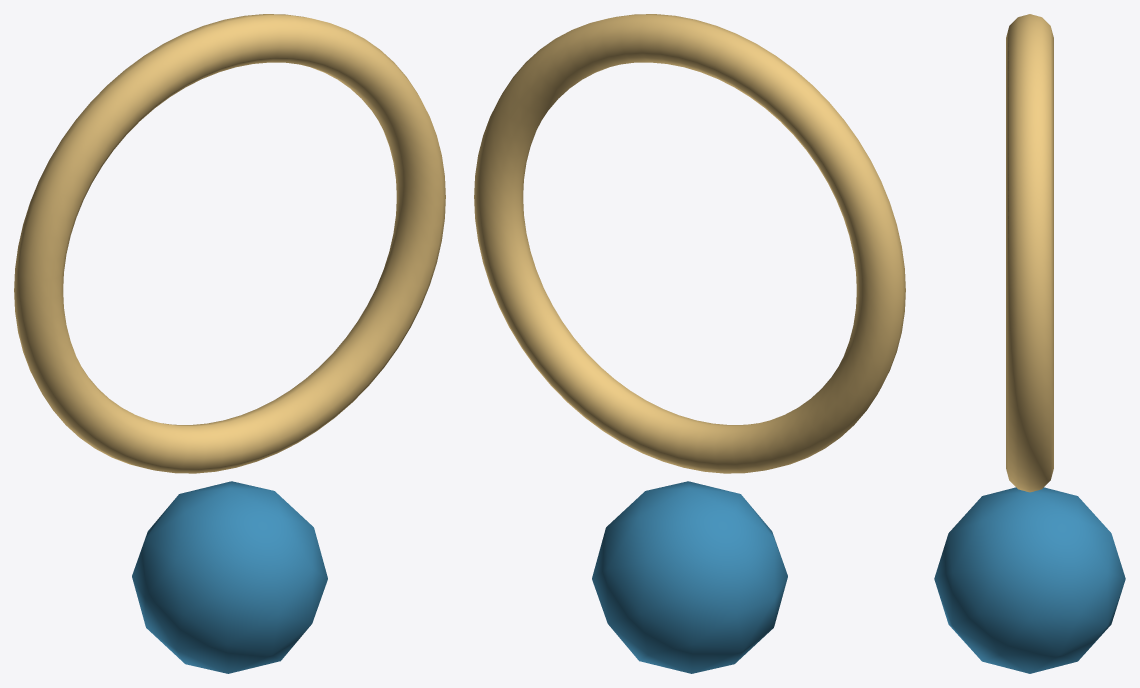
File: sample-earring.glb
The picture shows the model from 3 angles, left to right: view 1: azimuth 30°, elevation 25°; view 2: azimuth 150°, elevation 25°; view 3: azimuth 270°, elevation 25°; orthographic projection. The views are drawn at different scales.
Size of the model in its own units: 0.02 by 0.029 by 0.008.
